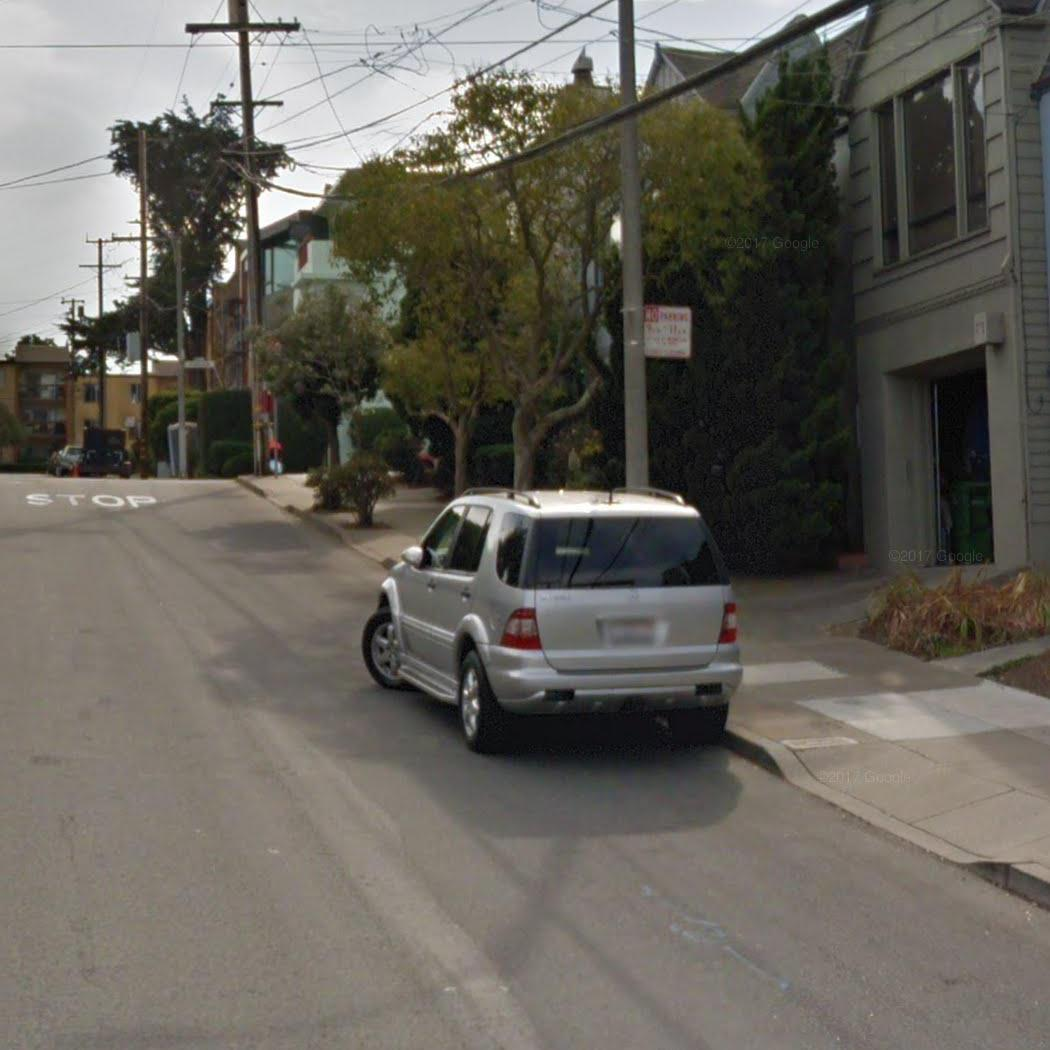No Parking: (640, 301, 702, 361)
